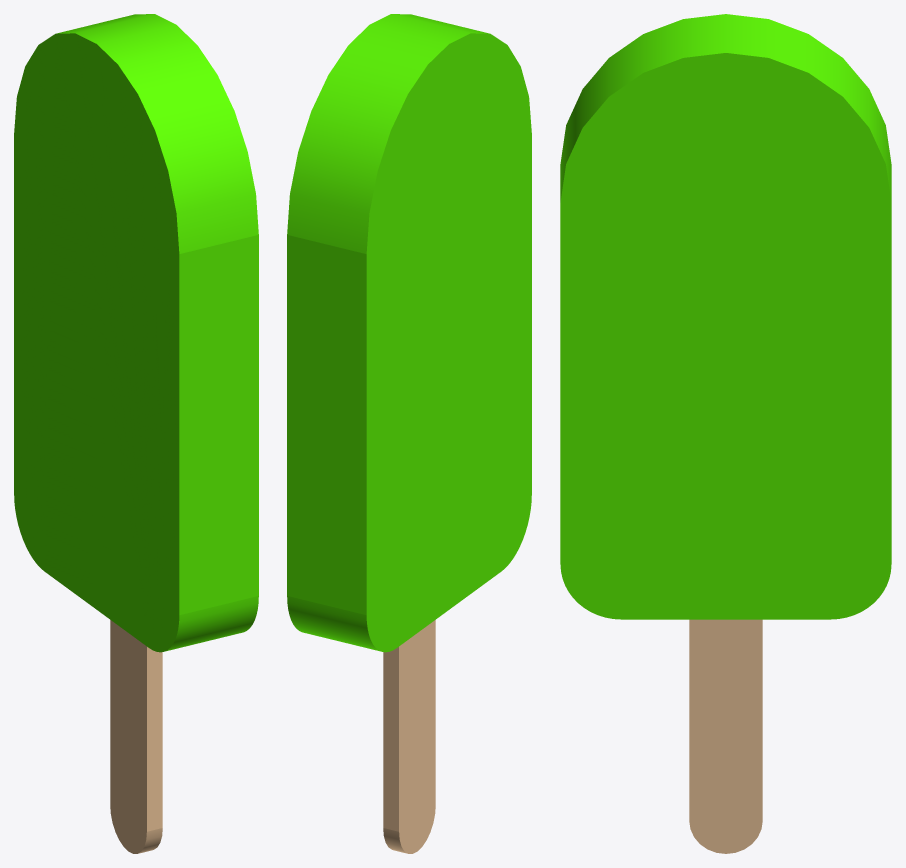
The model's file is popsicle_green.fbx.
The picture shows the model from 3 angles, left to right: view 1: azimuth 30°, elevation 25°; view 2: azimuth 150°, elevation 25°; view 3: azimuth 270°, elevation 25°; orthographic projection.
Parts seen in each view (by area): view 1: popsicle; view 2: popsicle; view 3: popsicle.
Part boxes in pixels (x1=…): popsicle: x1=14, y1=14, x2=258, y2=853; popsicle: x1=287, y1=14, x2=531, y2=853; popsicle: x1=560, y1=14, x2=891, y2=853.
Size of the model in its own units: 5 by 49 by 18.
